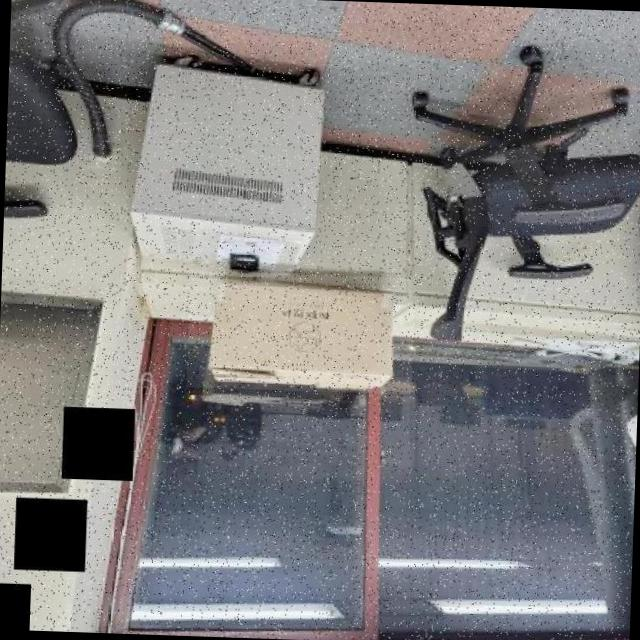box: (186, 270, 415, 395)
